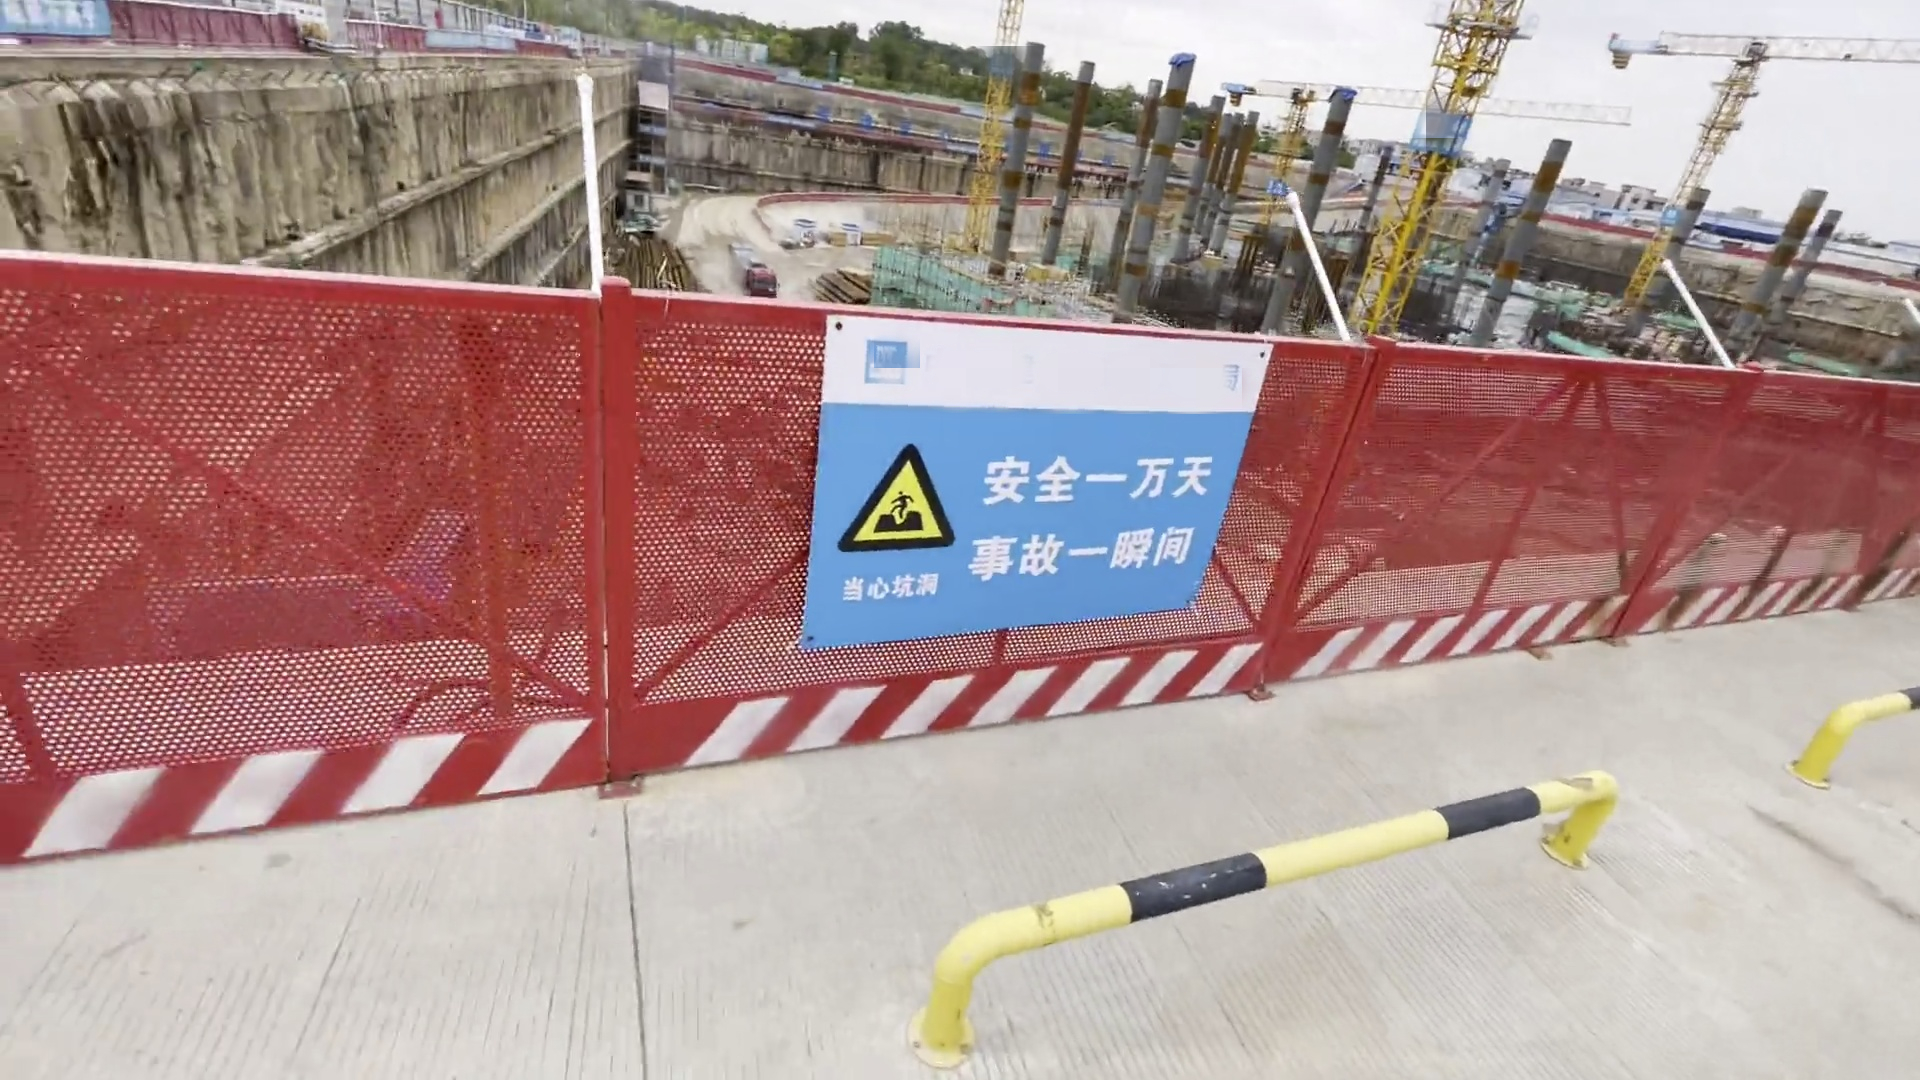fence: (1, 284, 1832, 771), (141, 7, 422, 55)
slogan: (839, 372, 1232, 632), (1, 3, 123, 18), (1443, 116, 1474, 156), (767, 115, 815, 127)
